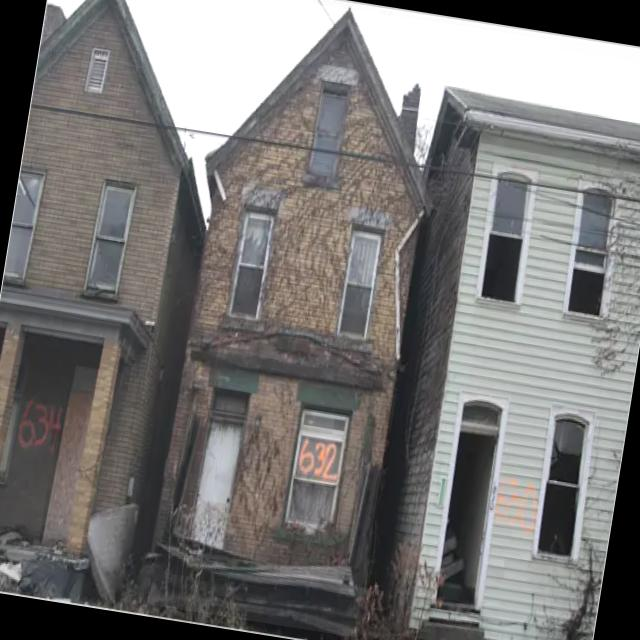House: (135, 0, 454, 638), (355, 33, 640, 640), (0, 0, 248, 617)
